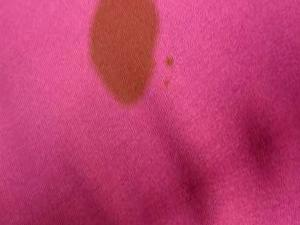stain: (89, 1, 160, 109), (163, 53, 180, 70), (162, 78, 173, 90)
